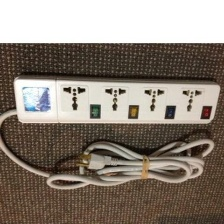three_eye_plug: (10, 70, 222, 127)
